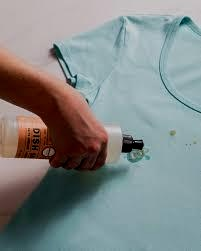oil: (129, 150, 151, 163), (185, 141, 198, 151), (165, 126, 177, 136)
